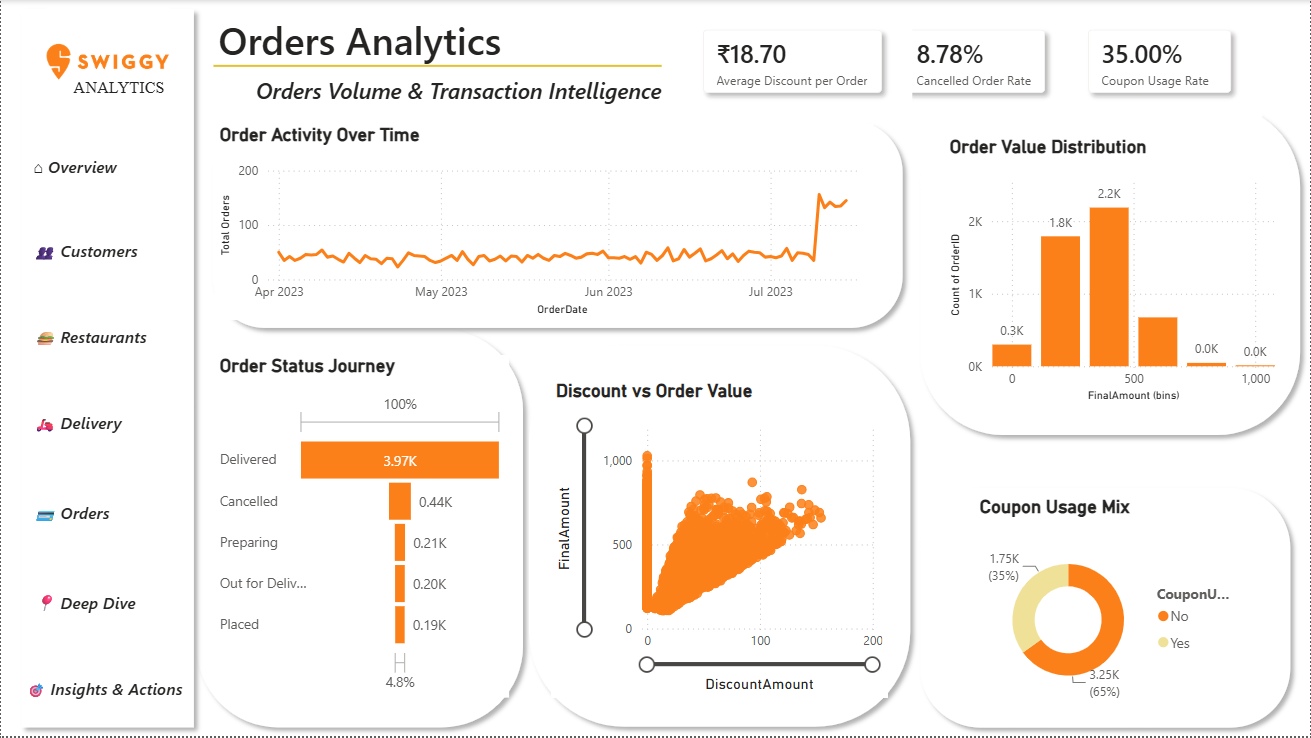

The page's visual inventory and layout, read from the dashboard file:
{"tool":"powerbi","page":{"name":"Orders Analytics","canvas":[1280,720],"ordinal":4},"visuals":[{"type":"shape","box":[890.6,93.3,389.7,341.7],"z":0},{"type":"shape","box":[182.5,312.9,337.6,407.5],"z":1000},{"type":"shape","box":[507.7,329.3,391.1,391.1],"z":2000},{"type":"shape","box":[890.6,467.9,380.1,252.5],"z":3000},{"type":"shape","box":[197.6,108.4,693,220.9],"z":4000},{"type":"shape","box":[11,0,186.6,720.4],"z":5000},{"type":"image","box":[0,0,208.6,120.8],"z":6000},{"type":"textbox","box":[65.9,72.7,101.5,35.7],"z":7000},{"type":"textbox","box":[27.4,146.8,116.6,31.6],"z":8000},{"type":"textbox","box":[27.4,229.2,119.4,31.6],"z":9000},{"type":"textbox","box":[27.4,312.9,123.5,34.3],"z":10000},{"type":"textbox","box":[27.4,397.9,105.7,37],"z":11000},{"type":"textbox","box":[27.4,485.8,98.8,38.4],"z":12000},{"type":"textbox","box":[27.4,573.6,115.3,38.4],"z":13000},{"type":"textbox","box":[208.3,8.3,379.2,63.9],"z":14000},{"type":"shape","box":[208.3,50,438.6,28.6],"z":15000},{"type":"textbox","box":[244.3,68.6,429.2,50],"z":16000},{"type":"cardVisual","fields":{"Data":["factorders.Cancelled Order Rate"]},"box":[853.5,0,197.6,120.8],"z":17000},{"type":"cardVisual","fields":{"Data":["factorders.Coupon Usage Rate"]},"box":[1034.7,0,199,120.8],"z":18000},{"type":"cardVisual","fields":{"Data":["factorders.Average Discount per Order"]},"box":[657.3,0,233.3,120.8],"z":19000},{"type":"lineChart","title":"Order Activity Over Time","fields":{"Category":["factorders.OrderDate"],"Y":["factorders.Total Orders"]},"box":[208.6,120.8,644.9,192.1],"z":20000},{"type":"clusteredColumnChart","title":"Order Value Distribution","fields":{"Category":["factorders.FinalAmount (bins)"],"Y":["CountNonNull(factorders.OrderID)"]},"box":[923.5,133.1,328,264.8],"z":21000},{"type":"funnel","title":"Order Status Journey","fields":{"Category":["factorders.OrderStatus"],"Y":["CountNonNull(factorders.OrderID)"]},"box":[208.6,347.2,288.2,334.8],"z":22000},{"type":"scatterChart","title":"Discount vs Order Value","fields":{"X":["factorders.DiscountAmount"],"Y":["factorders.FinalAmount"]},"box":[537.9,371.9,329.3,310.1],"z":23000},{"type":"donutChart","title":"Coupon Usage Mix","fields":{"Category":["factorders.CouponUsed"],"Y":["CountNonNull(factorders.OrderID)"]},"box":[952.3,485.8,262.1,209.9],"z":24000},{"type":"textbox","box":[20.6,657.3,166,32.9],"z":25000},{"type":"actionButton","box":[27.4,144.1,100,40],"z":25001},{"type":"actionButton","box":[30.2,226.4,112.5,39.8],"z":25002},{"type":"actionButton","box":[27.4,307.4,123.5,39.8],"z":25003},{"type":"actionButton","box":[27.4,395.2,105.7,39.8],"z":25004},{"type":"actionButton","box":[35.7,572.2,108.4,39.8],"z":25005},{"type":"actionButton","box":[15.1,655.9,167.4,39.8],"z":25006}]}

Visuals, with their boxes in screenshot pixels (x1, y1, x2, y2), scaled from the page's 1280x720 canvas onto the 1311x738 screenshot:
shape: 912:96:1310:446
shape: 187:321:533:737
shape: 520:338:921:737
shape: 912:480:1301:737
shape: 202:111:912:338
shape: 11:0:202:737
image: 0:0:214:124
textbox: 67:75:171:111
textbox: 28:150:147:183
textbox: 28:235:150:267
textbox: 28:321:155:356
textbox: 28:408:136:446
textbox: 28:498:129:537
textbox: 28:588:146:627
textbox: 213:9:602:74
shape: 213:51:663:81
textbox: 250:70:690:122
cardVisual - factorders.Cancelled Order Rate: 874:0:1077:124
cardVisual - factorders.Coupon Usage Rate: 1060:0:1264:124
cardVisual - factorders.Average Discount per Order: 673:0:912:124
"Order Activity Over Time" lineChart: 214:124:874:321
"Order Value Distribution" clusteredColumnChart: 946:136:1282:408
"Order Status Journey" funnel: 214:356:509:699
"Discount vs Order Value" scatterChart: 551:381:888:699
"Coupon Usage Mix" donutChart: 975:498:1244:713
textbox: 21:674:191:707
actionButton: 28:148:130:189
actionButton: 31:232:146:273
actionButton: 28:315:155:356
actionButton: 28:405:136:446
actionButton: 37:587:148:627
actionButton: 15:672:187:713
